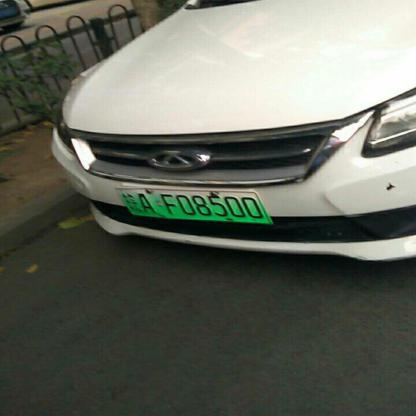lp: (115, 189, 273, 223)
